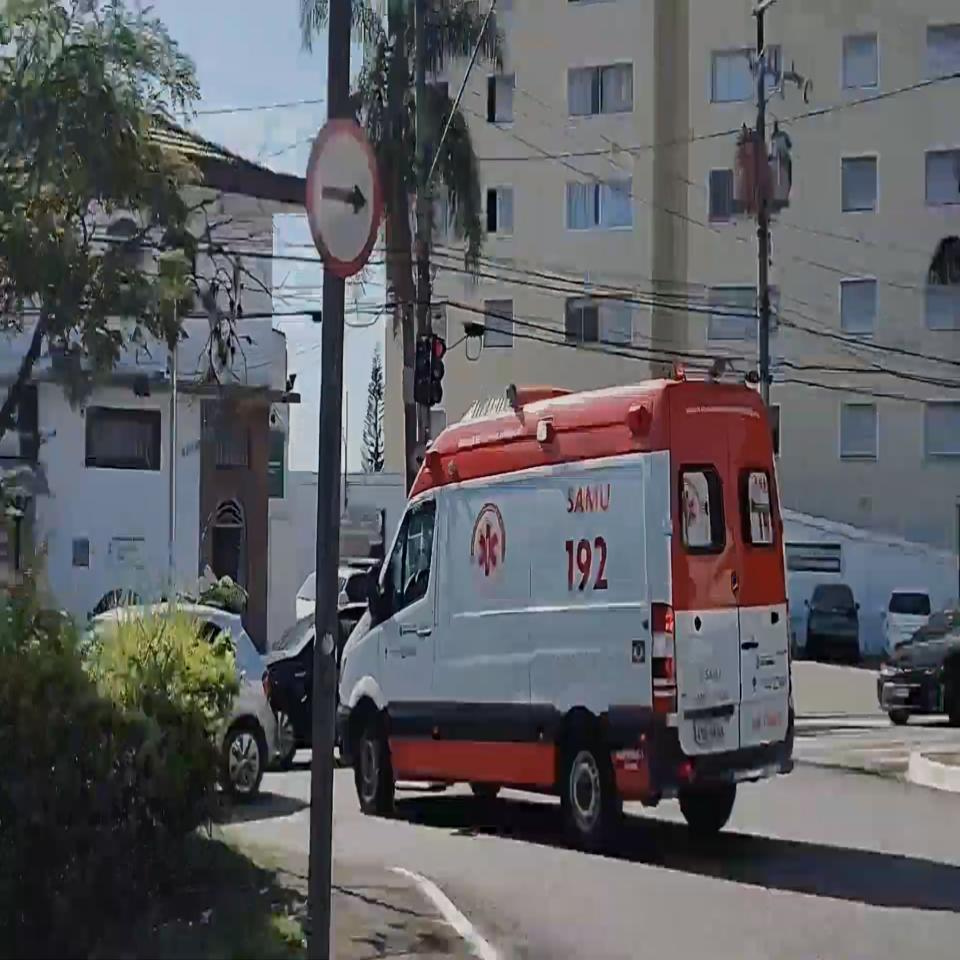ambulancia: (338, 365, 795, 848)
